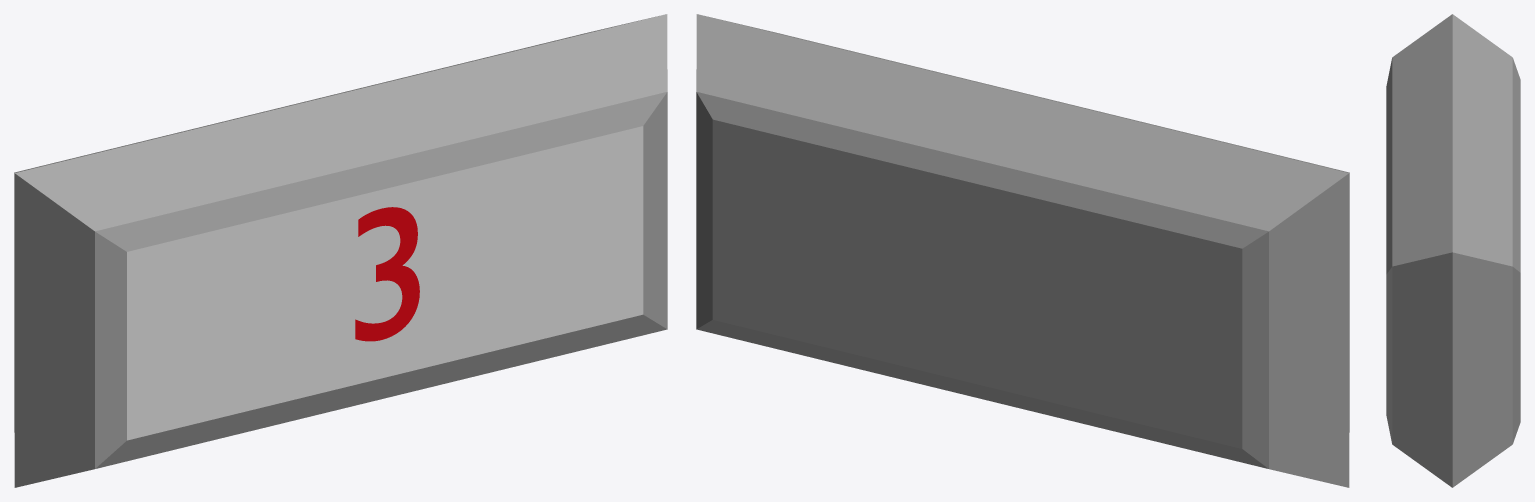
The model's file is number3.fbx.
The picture shows the model from 3 angles, left to right: view 1: azimuth 30°, elevation 25°; view 2: azimuth 150°, elevation 25°; view 3: azimuth 270°, elevation 25°; orthographic projection. The views are drawn at different scales.
Parts seen in each view (by area): view 1: Cube, Text; view 2: Cube; view 3: Cube.
Boxes of the visible parts, x1,y1,x2,y2 form: Cube: (14, 14, 667, 487); Text: (355, 207, 419, 341); Cube: (696, 14, 1349, 487); Cube: (1386, 14, 1520, 487).
Bounding box in the file's own units: 1735 × 800 × 437.
